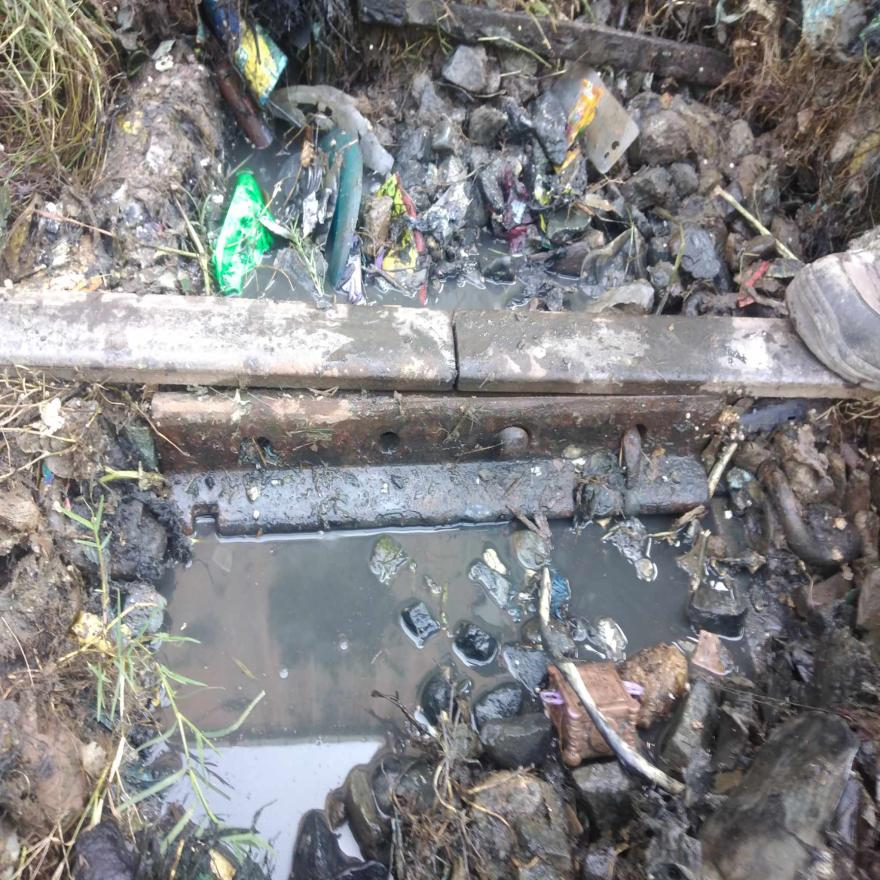railway-gap: (397, 280, 510, 428)
